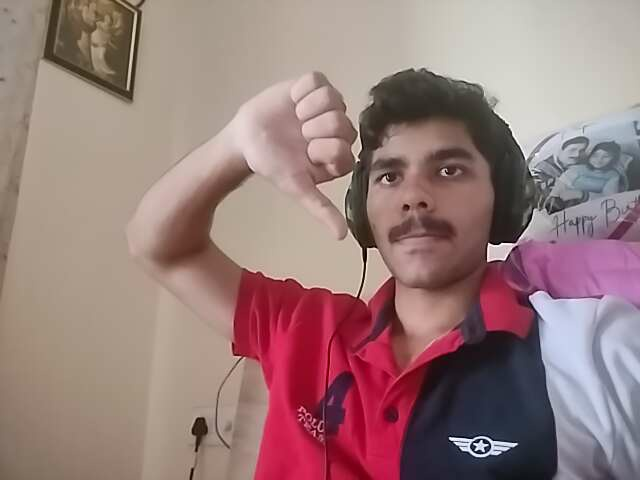No: (218, 67, 377, 249)
